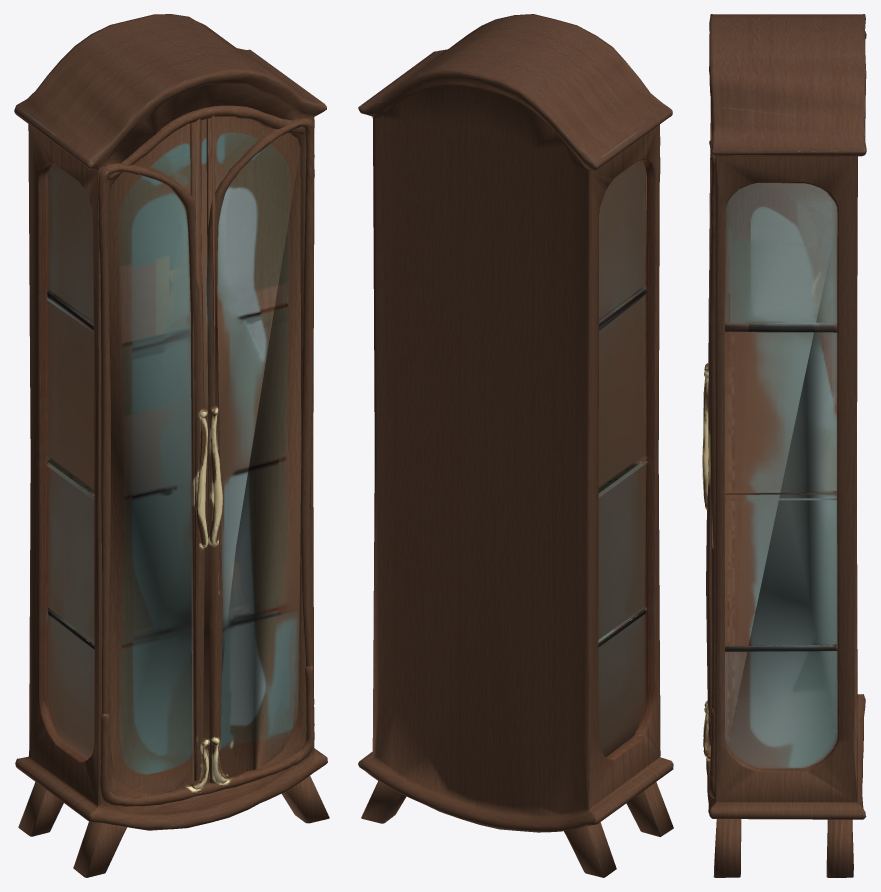
The model's file is cabinet.glb.
3 views of the same model, side by side, from view 1: azimuth 30°, elevation 25°; view 2: azimuth 150°, elevation 25°; view 3: azimuth 270°, elevation 25° (orthographic).
Bounding box in the file's own units: 0.3309 × 1 × 0.1892.
Materials: 1 (1 with a texture image).
